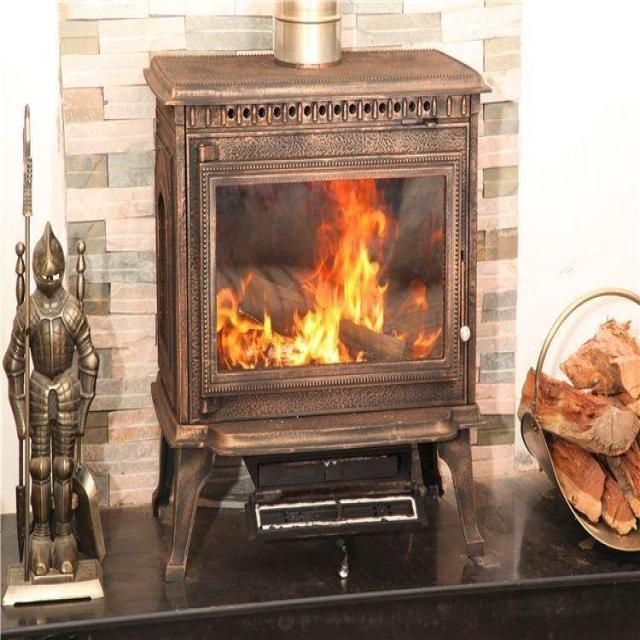Fire: (215, 178, 446, 372)
